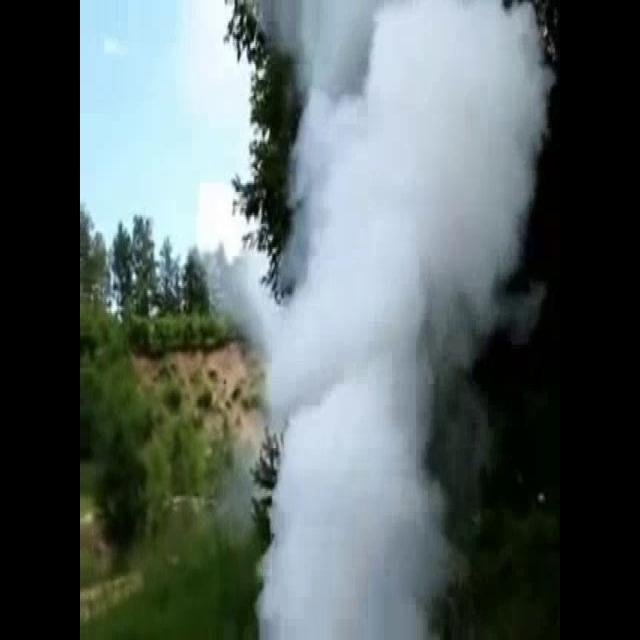Smoke: (206, 1, 556, 640)
